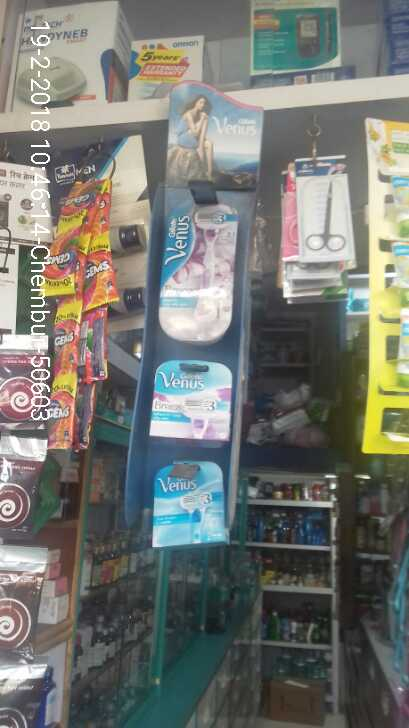venus: (159, 198, 235, 352), (141, 354, 239, 443), (147, 456, 233, 545)
